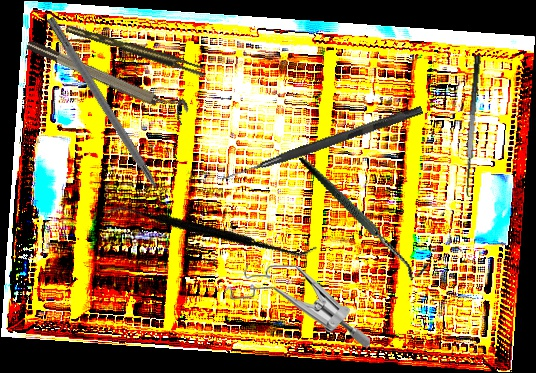Fixation Ring: (24, 30, 192, 125)
Hook Surgical: (44, 15, 178, 219), (298, 131, 432, 300), (220, 103, 424, 186)
Spatula Surgical: (102, 146, 318, 313), (458, 54, 494, 198)
Speculum: (225, 261, 370, 350)
Tissue Forceps: (65, 18, 207, 81)
